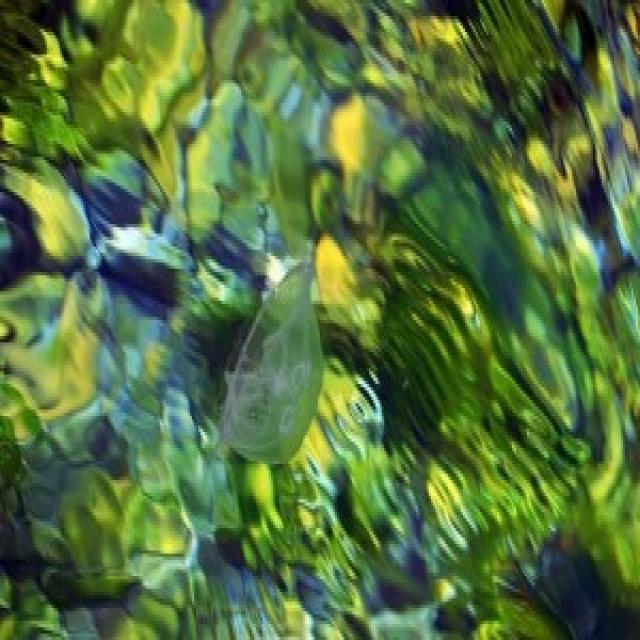Jellyfish: (220, 245, 326, 468)
